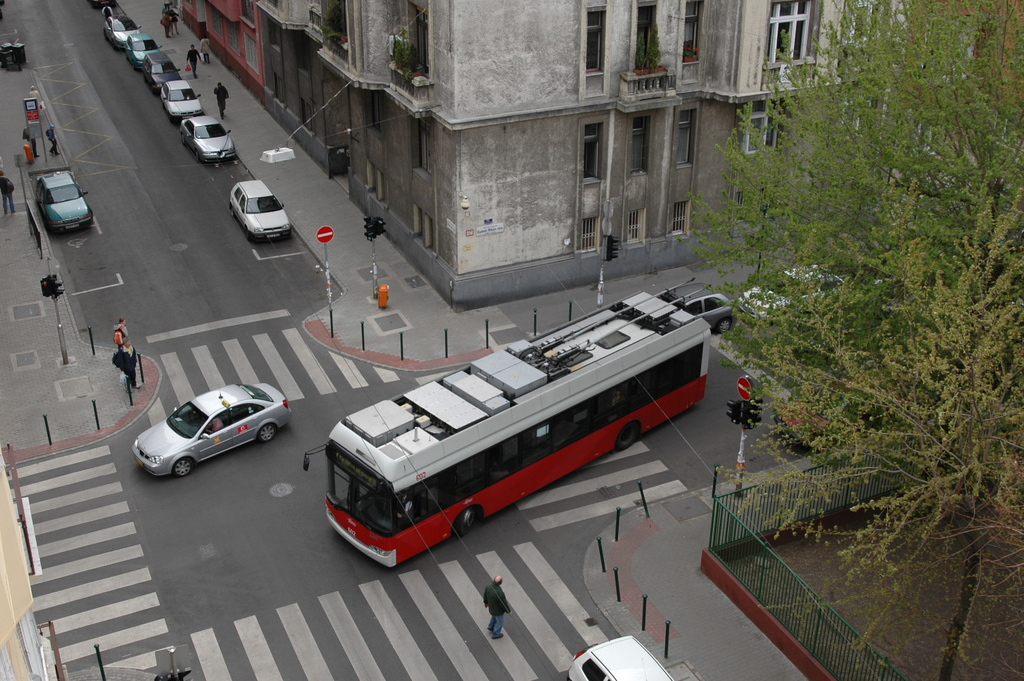Bus: (303, 287, 712, 568)
